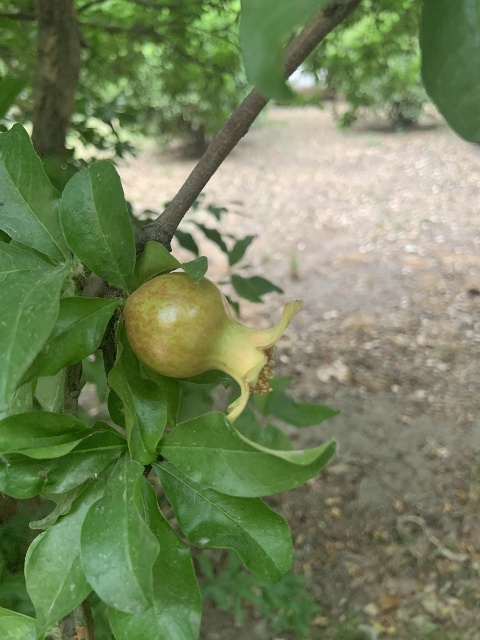early-fruit: (124, 272, 302, 425)
